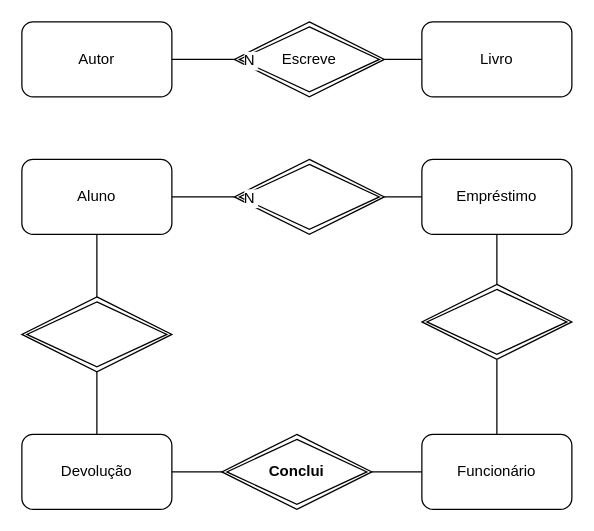
Some shapes in this 594 by 531 pixel diagram are drawn without their labels. The box of each missing label's shape, as (x1, y1, x2, y2) in pixels:
Efetua: (421, 283, 572, 359)
Realiza: (233, 158, 384, 234)
Soicita: (21, 296, 172, 372)
